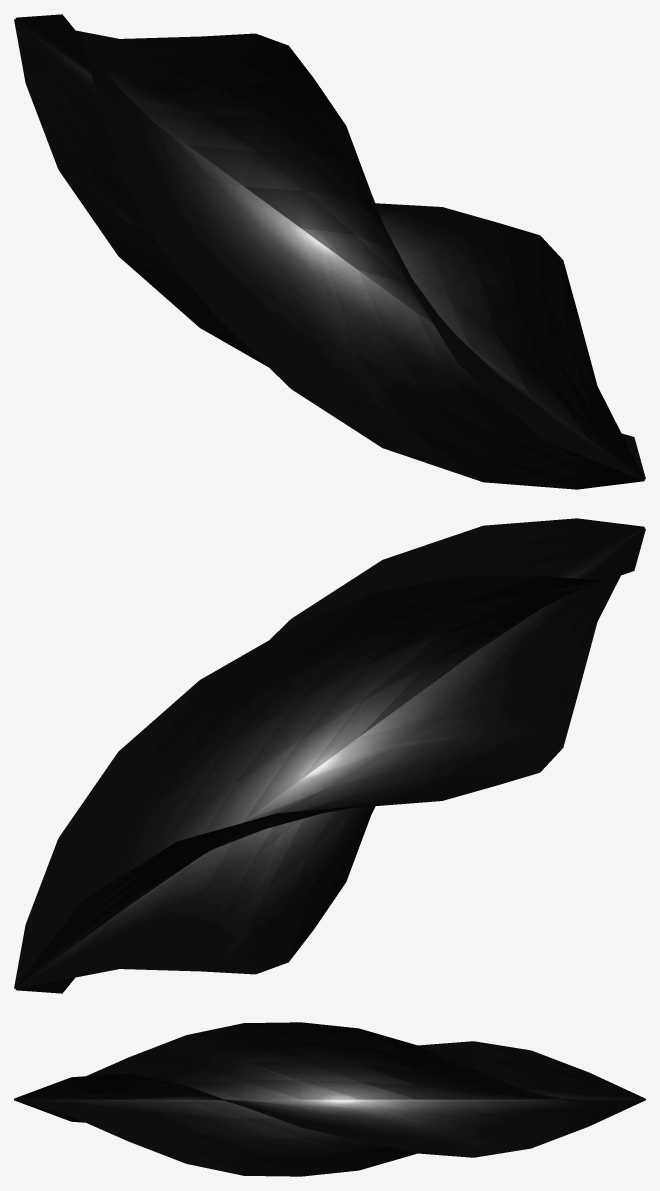
The model's file is 0294_firrr.glb.
The picture shows the model from 3 angles, top to bottom: view 1: azimuth 30°, elevation 25°; view 2: azimuth 150°, elevation 25°; view 3: azimuth 270°, elevation 25°; orthographic projection. The views are drawn at different scales.
Bounding box in the file's own units: 0.5696 × 0.5696 × 2.2.
1 material, 1 textured.
